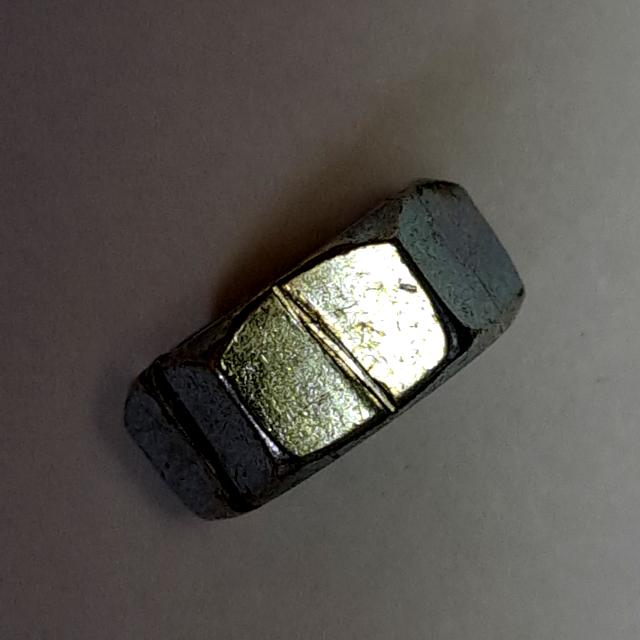Side_Scratches: (113, 169, 542, 535)
